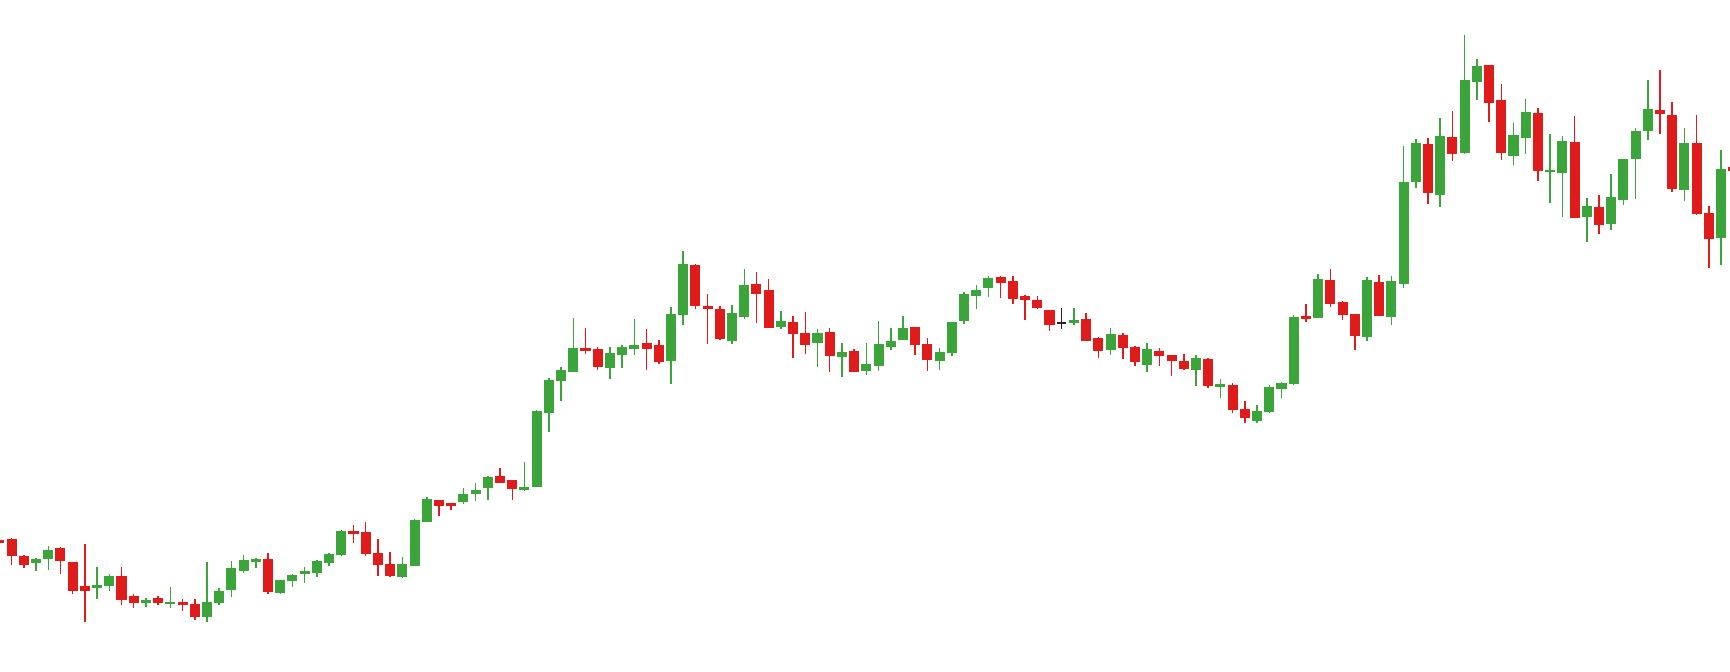sell: (1568, 67, 1680, 178)
